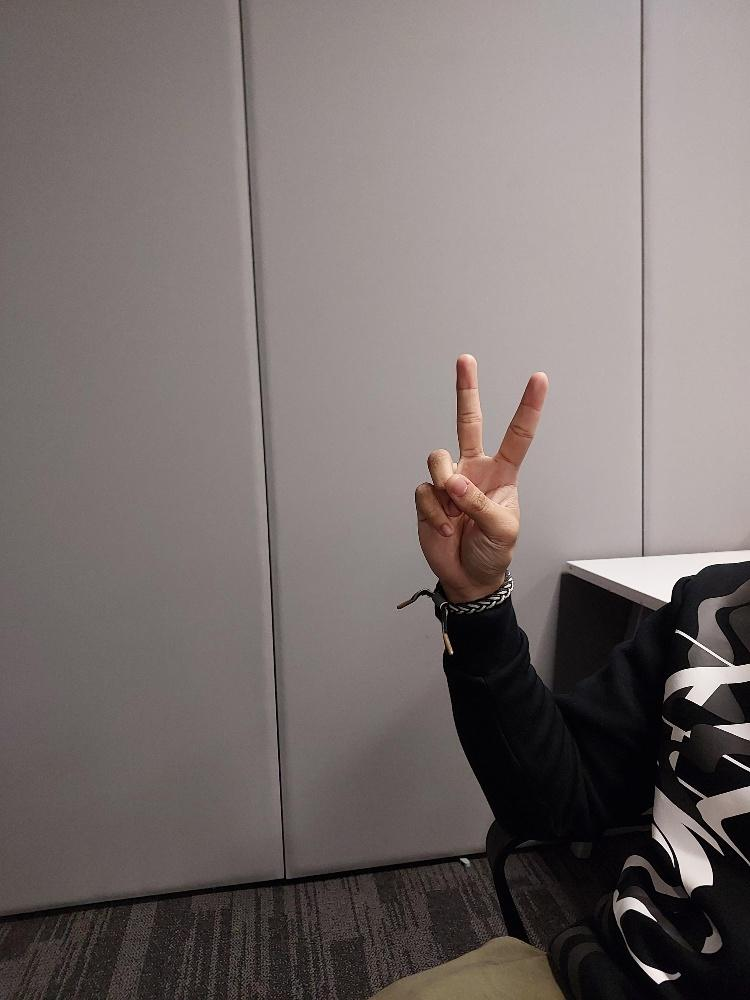v: (412, 351, 548, 588)
